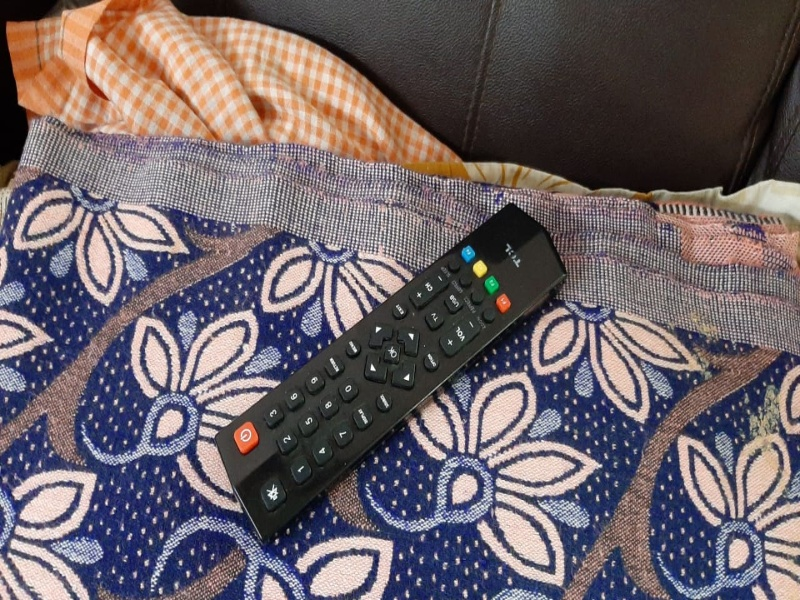remote: (214, 205, 574, 540)
